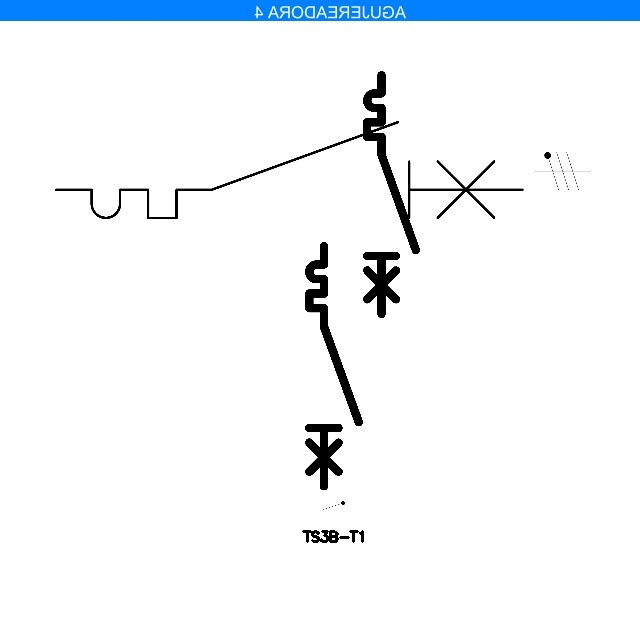interruptor_termomagnetico: (44, 110, 534, 230), (303, 240, 365, 493), (361, 69, 422, 320)
